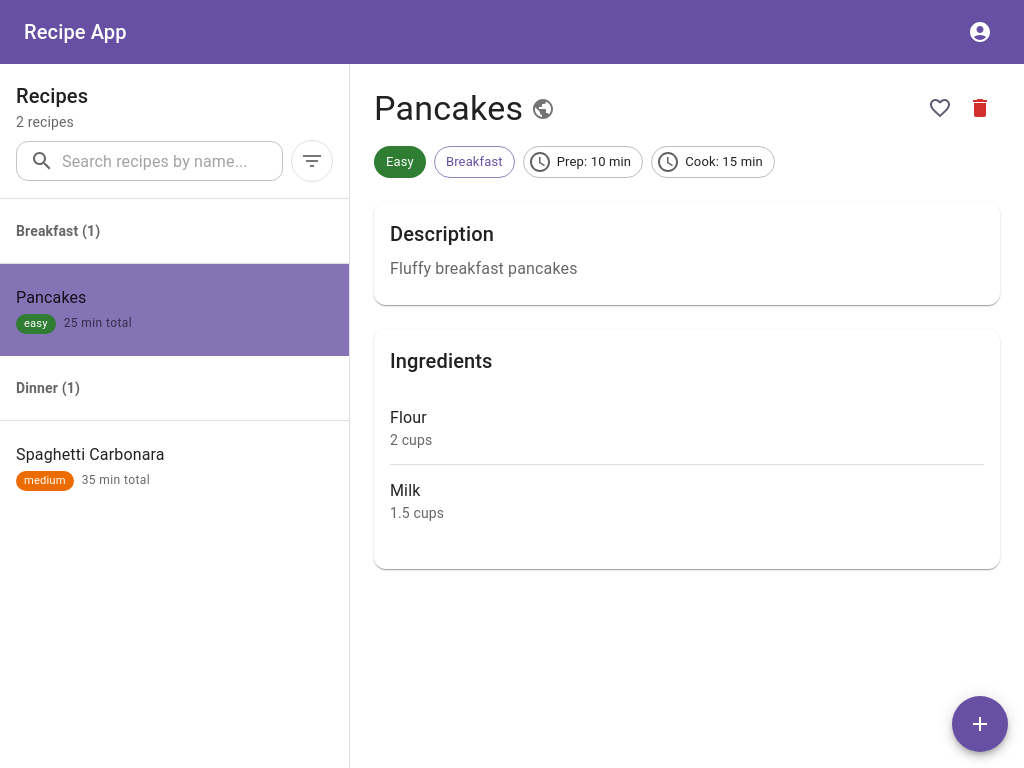
Test: App › Recipe Selection › changes selected recipe when clicking different recipe
Expected: the text "Pancakes" is shown, [16,288,86,307]
Note: Click on second recipe using getByRole
Click the button "Spaghetti Carbonara medium 35 min total" at (90, 455), box [16,445,165,491]
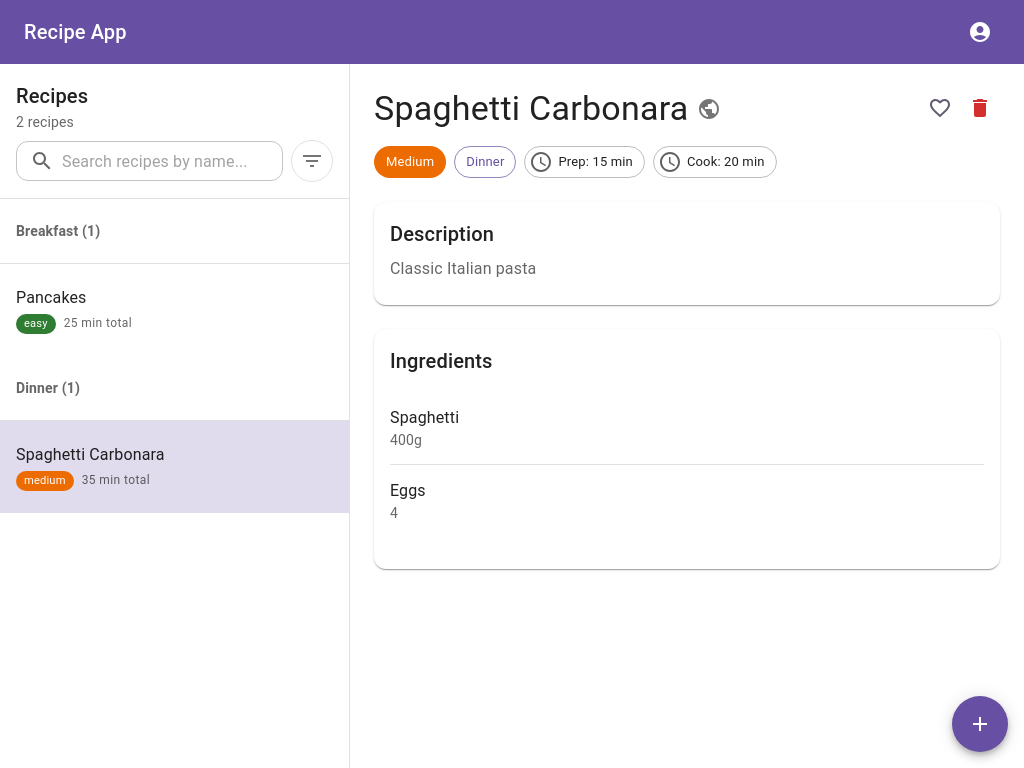
Expected: the text "Classic Italian pasta" is shown, [390,259,536,278]
